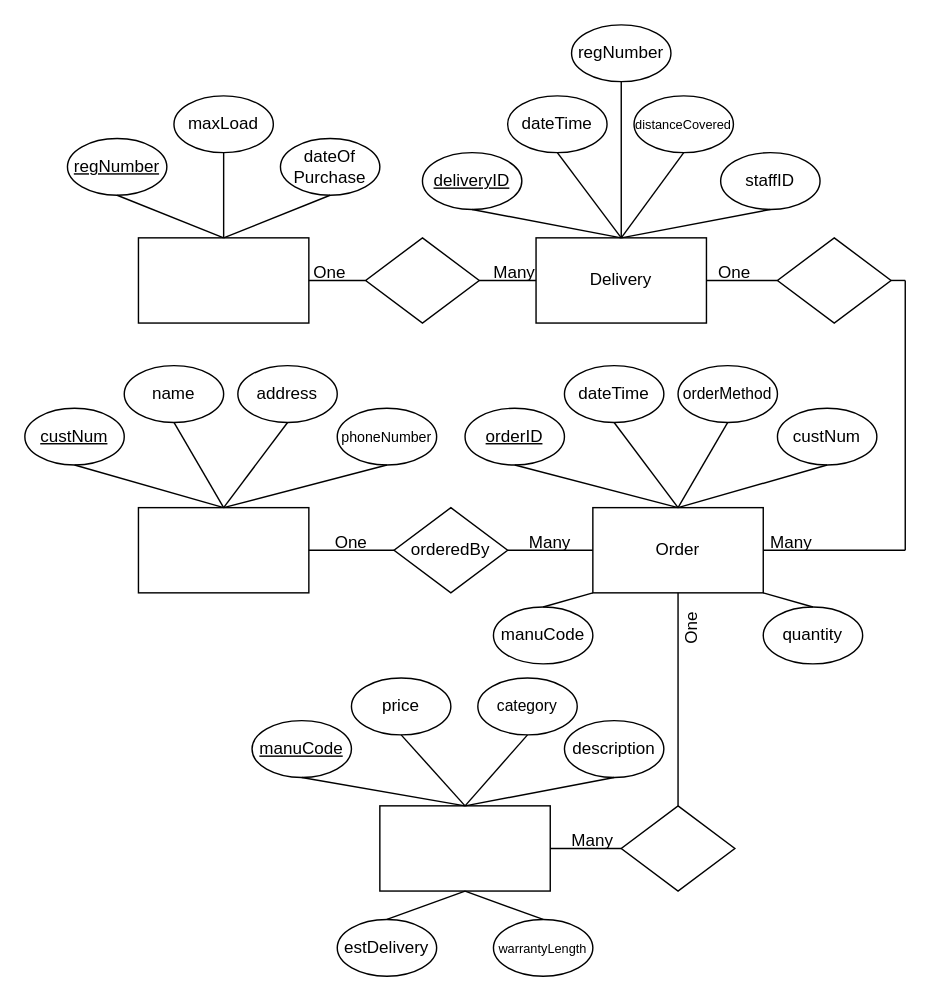
Image size: 932x1001. Some labels were removed from this diagram. The shapes that lost their labels are listed below. From the top down, each one's centre as x and y in pixels, then its label:
pixel 223 279: Van
pixel 421 279: isDeliveredBy
pixel 833 279: deliversOrders
pixel 223 549: Customer
pixel 464 847: Product
pixel 677 847: onOrder
